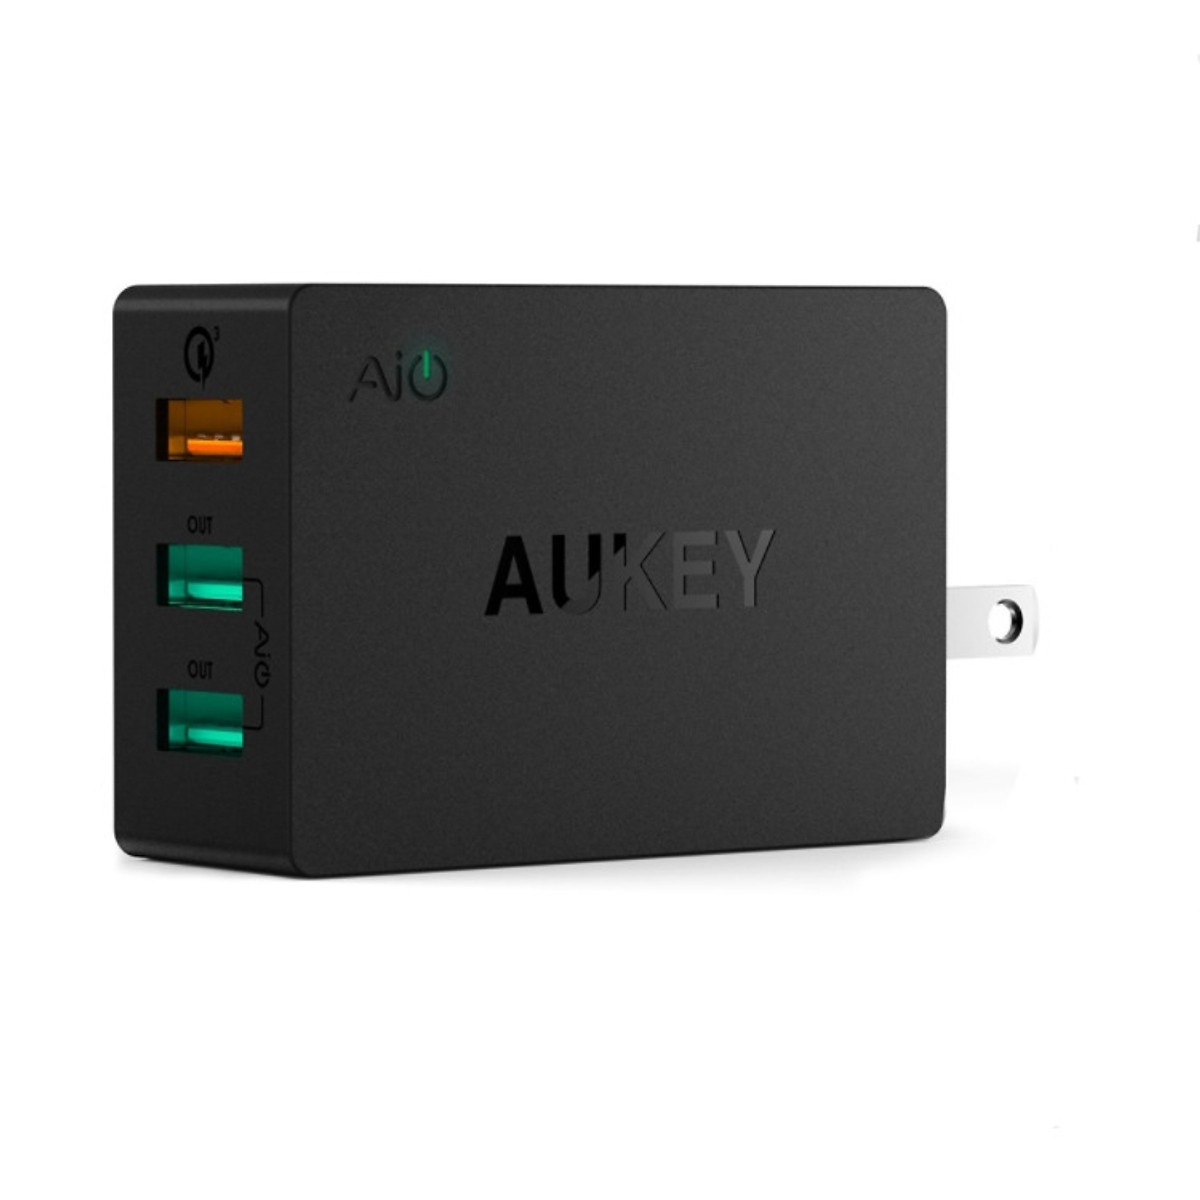Aukey: (452, 480, 866, 719)
